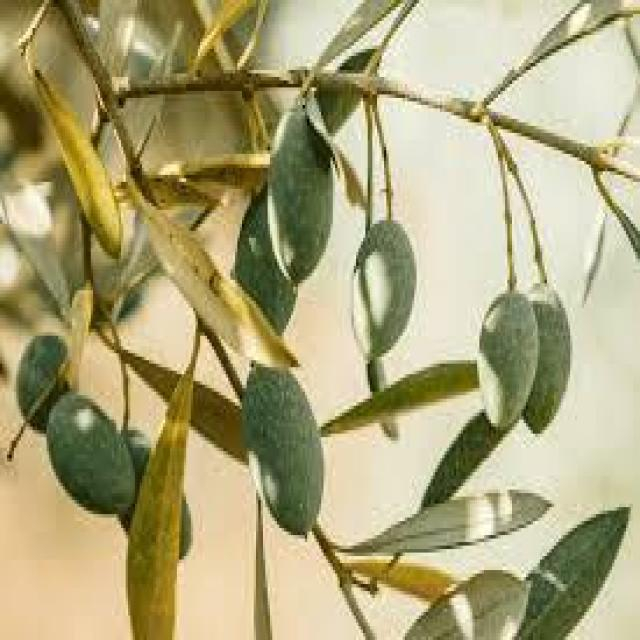Healthy: (242, 367, 321, 535), (268, 100, 335, 283), (47, 392, 133, 514), (351, 217, 414, 360), (477, 287, 540, 427), (521, 283, 570, 430)
